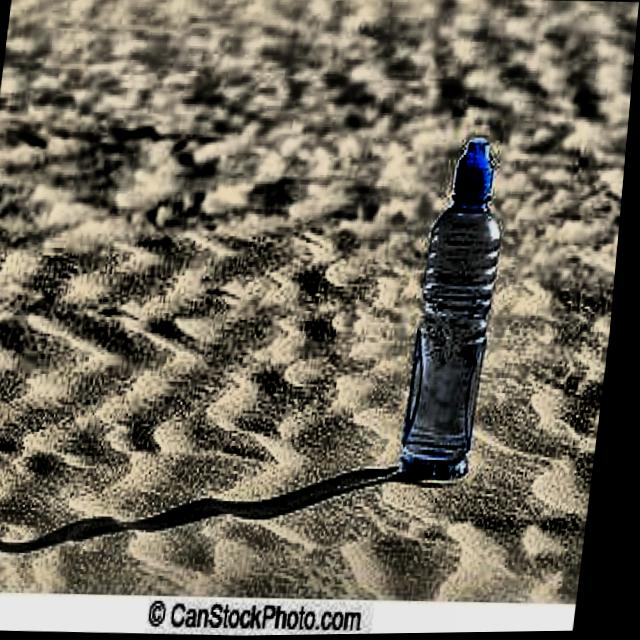Bottles: (391, 130, 527, 506)
